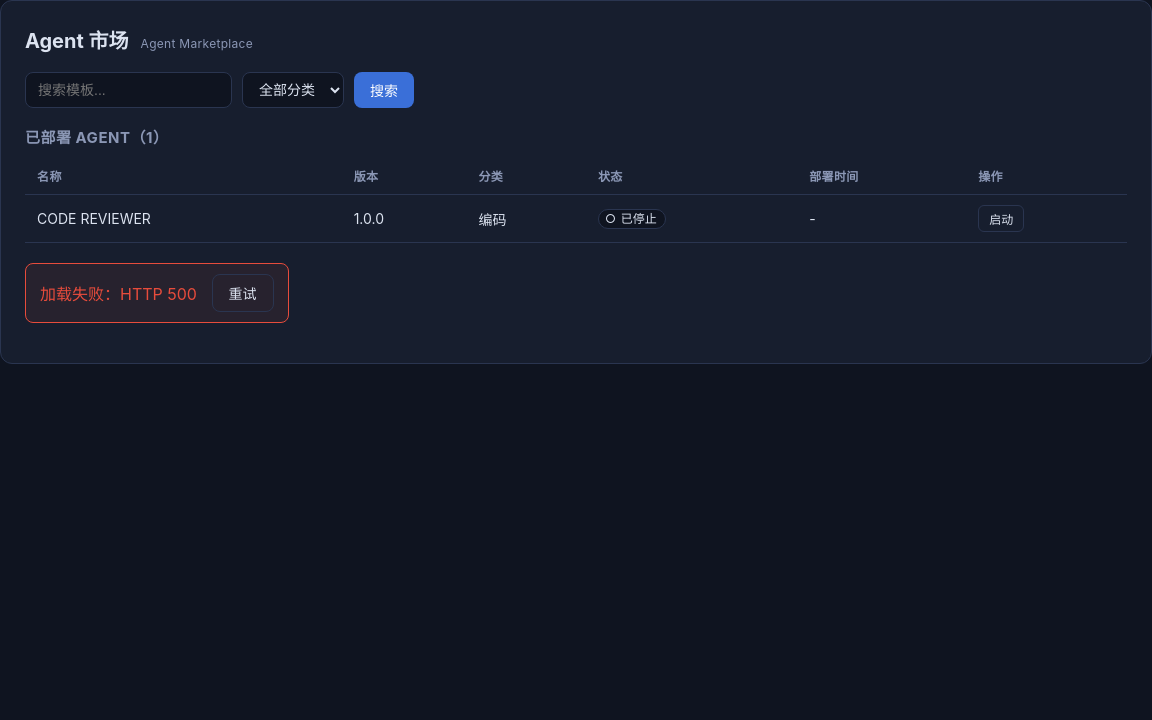
Marketplace 加固 › 模板加载失败展示错误面板，点击重试后恢复
Expected: the text "加载失败：HTTP 500" is shown, [40, 281, 200, 305]
Click the button "重试" at (242, 293), box [212, 274, 274, 312]
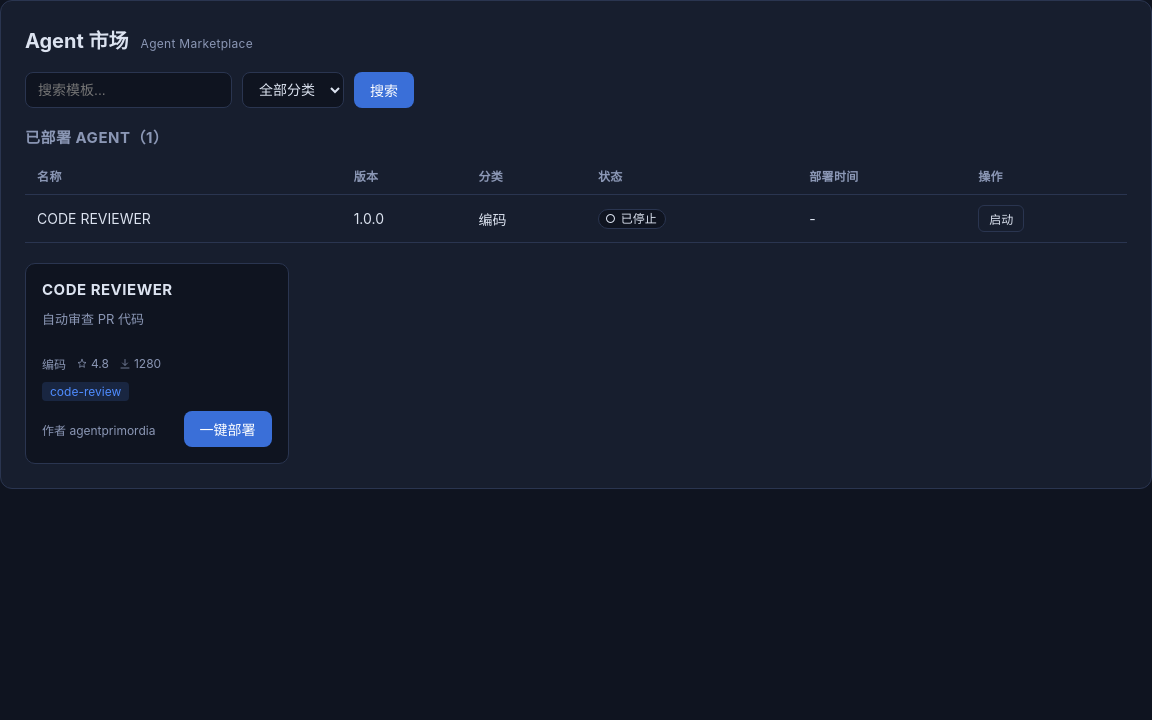
Expected: the button "一键部署" is shown, [184, 411, 272, 447]
